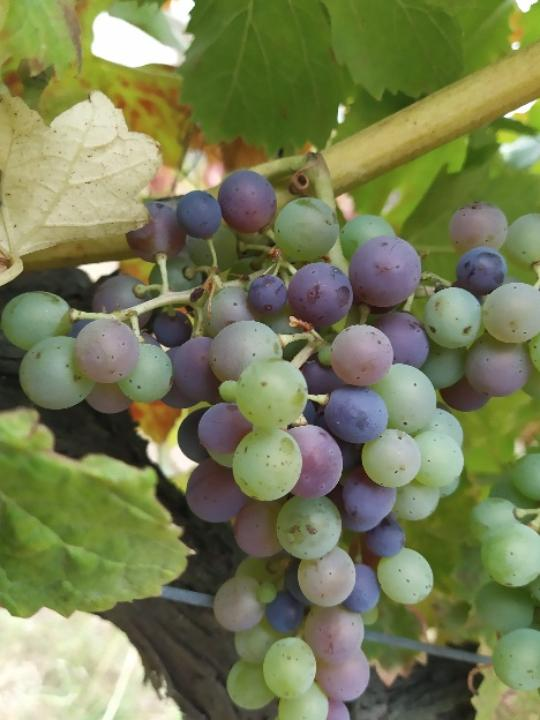grape: (0, 166, 540, 720)
